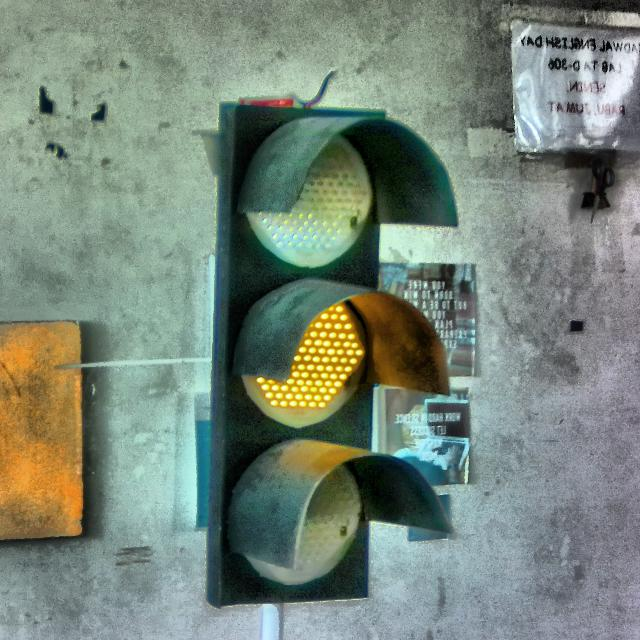yellow: (208, 111, 460, 606)
